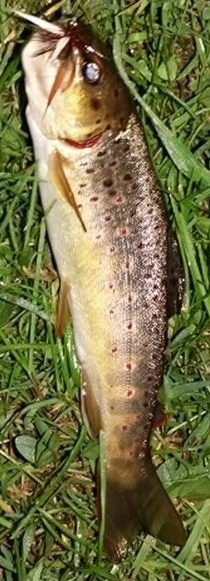Salmo trutta subsp. fario: (20, 20, 190, 561)
